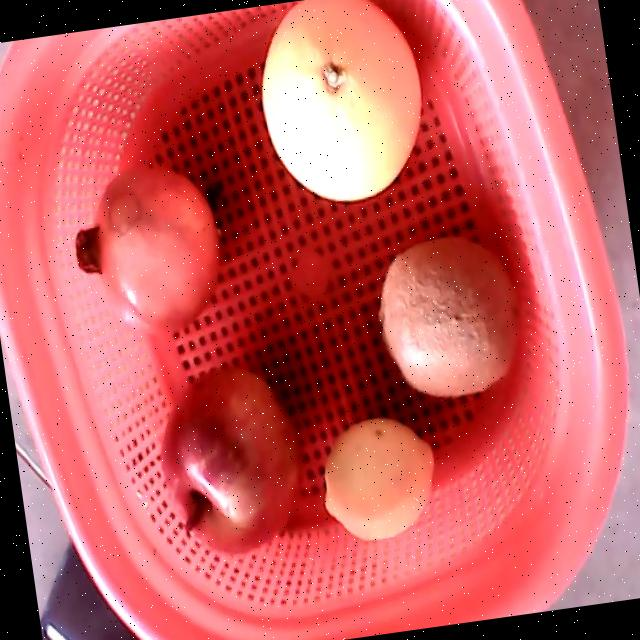apple: (160, 365, 300, 554)
kiwi: (375, 237, 519, 396)
lemon: (322, 418, 434, 541)
orange: (261, 0, 422, 201)
pomegranate: (74, 162, 221, 337)
